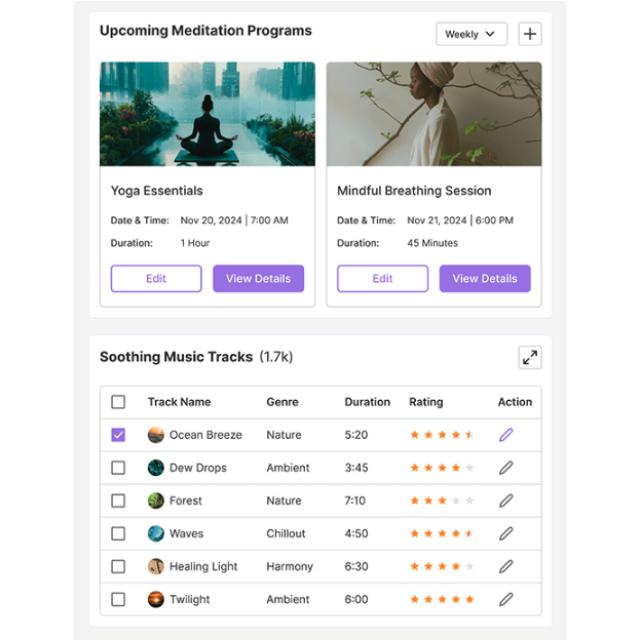QLabel: (98, 22, 312, 38), (97, 349, 293, 365), (336, 184, 492, 198), (406, 213, 516, 225), (111, 183, 203, 197), (180, 215, 288, 225), (450, 273, 520, 285), (225, 273, 291, 285), (335, 215, 397, 225), (109, 215, 170, 225), (406, 238, 458, 248), (336, 238, 379, 248), (110, 238, 152, 248), (180, 238, 210, 248), (144, 272, 166, 284), (371, 274, 393, 284)
VBtn: (109, 263, 203, 293), (211, 263, 305, 293), (335, 263, 429, 293), (439, 264, 531, 292)
VCard: (88, 9, 554, 319), (86, 332, 554, 630), (326, 59, 542, 308), (100, 60, 316, 308)
VCombobox: (436, 20, 508, 46)
VDataTable: (97, 384, 543, 616)
VIcon: (522, 349, 538, 365), (523, 26, 537, 40)
VImg: (326, 62, 542, 166), (101, 62, 315, 166)
